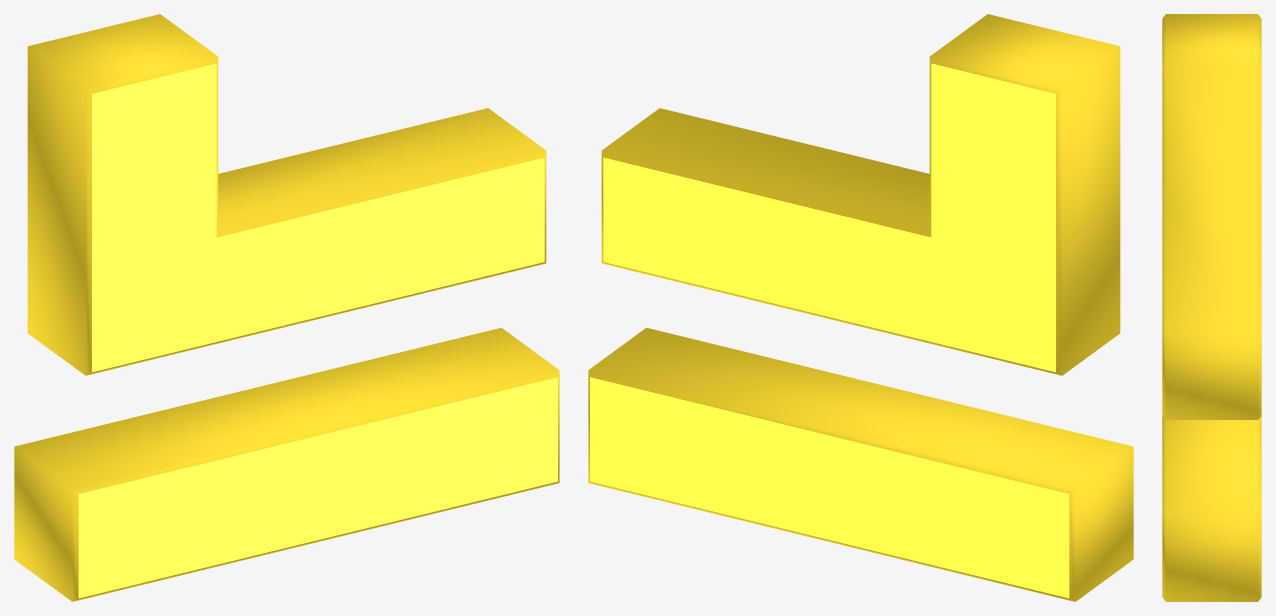
The picture shows the model from 3 angles, left to right: view 1: azimuth 30°, elevation 25°; view 2: azimuth 150°, elevation 25°; view 3: azimuth 270°, elevation 25°; orthographic projection. The views are drawn at different scales.
Parts seen in each view (by area): view 1: glyph; view 2: glyph; view 3: glyph.
Boxes of the visible parts, box(x1,y1,x2,y2) form: glyph: box(14, 14, 559, 601); glyph: box(588, 14, 1133, 601); glyph: box(1162, 14, 1261, 601).
Size of the model in its own units: 0.1009 by 0.1009 by 0.0225.
